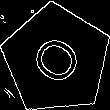O_SE: (24, 28, 89, 91)
